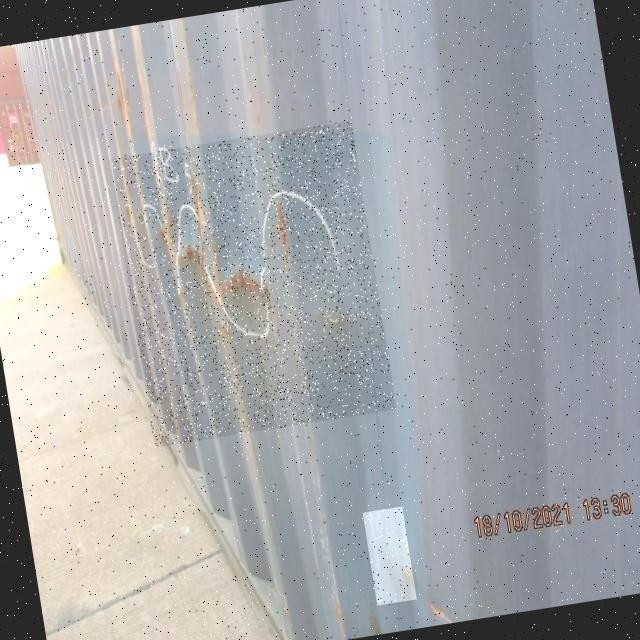Dent: (109, 121, 397, 448)
Minor-Dent: (363, 507, 417, 606)
